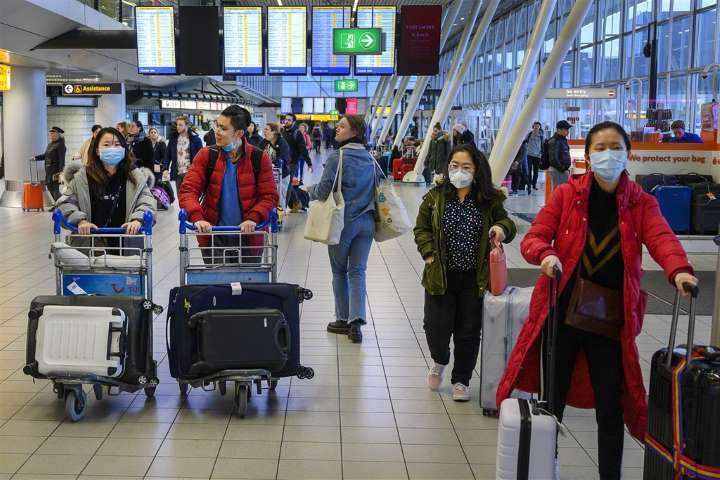luggage: (639, 275, 718, 480), (495, 264, 567, 480), (167, 280, 318, 379), (23, 294, 153, 391), (478, 283, 545, 422), (31, 304, 130, 381), (186, 308, 288, 372), (655, 185, 693, 233), (20, 155, 44, 213), (388, 148, 422, 185), (693, 194, 720, 233), (537, 133, 555, 173), (148, 185, 174, 211)
shoulder bag: (564, 258, 633, 342), (299, 143, 348, 253), (368, 151, 413, 244), (486, 233, 511, 297)
